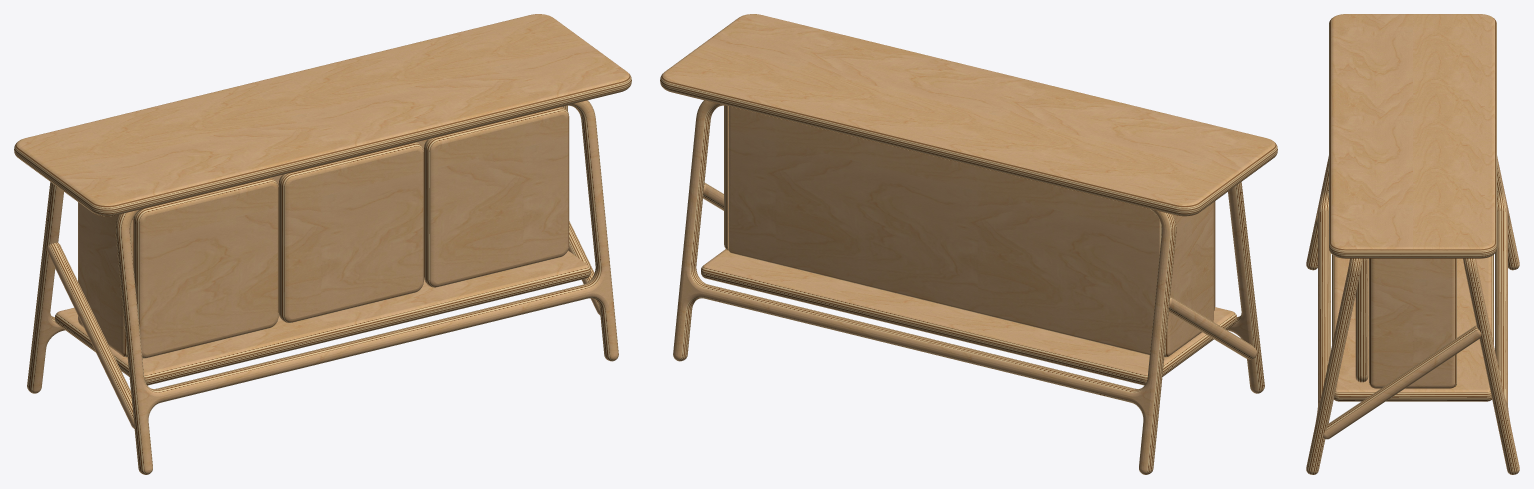
File: credenza.glb
The picture shows the model from 3 angles, left to right: view 1: azimuth 30°, elevation 25°; view 2: azimuth 150°, elevation 25°; view 3: azimuth 270°, elevation 25°; orthographic projection. The views are drawn at different scales.
Parts seen in each view (by area): view 1: Credenza: top_upper, Credenza: front_3, Credenza: front_2, Credenza: front_1, Credenza: front_frame, Credenza: cabinet_floor, Credenza: cabinet_side_L, Credenza: back_frame, Credenza: top_lower, Credenza: end_brace_L; view 2: Credenza: cabinet_back, Credenza: top_upper, Credenza: cabinet_floor, Credenza: back_frame, Credenza: cabinet_side_L, Credenza: front_frame, Credenza: top_lower, Credenza: end_brace_L, Credenza: cabinet_side_R; view 3: Credenza: top_upper, Credenza: cabinet_side_R, Credenza: cabinet_floor, Credenza: back_frame, Credenza: front_frame, Credenza: end_brace_R, Credenza: front_3, Credenza: top_lower.
Boxes of the visible parts, x1,y1,x2,y2 form: Credenza: top_upper: (14, 14, 631, 211); Credenza: front_3: (424, 106, 569, 287); Credenza: front_2: (278, 142, 423, 322); Credenza: front_1: (133, 177, 278, 358); Credenza: front_frame: (115, 100, 618, 474); Credenza: cabinet_floor: (55, 250, 590, 385); Credenza: cabinet_side_L: (78, 202, 130, 357); Credenza: back_frame: (27, 182, 64, 393); Credenza: top_lower: (14, 81, 631, 216); Credenza: end_brace_L: (46, 242, 134, 428); Credenza: cabinet_back: (729, 106, 1161, 354); Credenza: top_upper: (660, 14, 1277, 211); Credenza: cabinet_floor: (701, 249, 1236, 385); Credenza: back_frame: (673, 100, 1176, 474); Credenza: cabinet_side_L: (1161, 202, 1213, 357); Credenza: front_frame: (1227, 182, 1264, 393); Credenza: top_lower: (660, 81, 1277, 216); Credenza: end_brace_L: (1169, 296, 1256, 359); Credenza: cabinet_side_R: (724, 105, 728, 250); Credenza: top_upper: (1329, 14, 1496, 254); Credenza: cabinet_side_R: (1369, 258, 1456, 388); Credenza: cabinet_floor: (1332, 255, 1493, 401); Credenza: back_frame: (1463, 156, 1519, 474); Credenza: front_frame: (1306, 156, 1362, 474); Credenza: end_brace_R: (1323, 325, 1481, 439); Credenza: front_3: (1355, 258, 1368, 382); Credenza: top_lower: (1329, 249, 1496, 258).
Size of the model in its own units: 1.6 by 0.7605 by 0.6097.
Materials: 2 (2 with a texture image).
